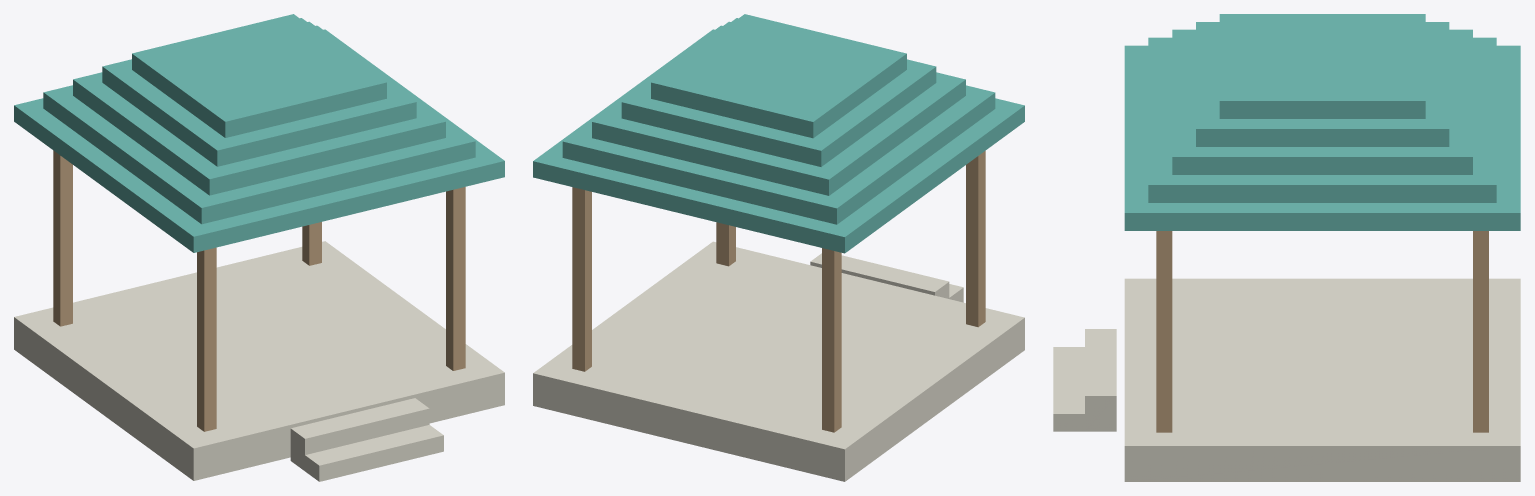
The model's file is voxel-city-districts-bandstand-4d55a966__24870.glb.
The picture shows the model from 3 angles, left to right: view 1: azimuth 30°, elevation 25°; view 2: azimuth 150°, elevation 25°; view 3: azimuth 270°, elevation 25°; orthographic projection. The views are drawn at different scales.
Visible parts, largest first — view 1: bandstand-concrete, bandstand-accent, bandstand-wood; view 2: bandstand-concrete, bandstand-accent, bandstand-wood; view 3: bandstand-accent, bandstand-concrete, bandstand-wood.
Part boxes in pixels (box(x1,y1,x2,y2)): bandstand-concrete: box(14, 241, 504, 481); bandstand-accent: box(14, 14, 504, 252); bandstand-wood: box(53, 150, 465, 431); bandstand-concrete: box(533, 241, 1024, 481); bandstand-accent: box(533, 14, 1024, 253); bandstand-wood: box(572, 151, 985, 432); bandstand-accent: box(1124, 14, 1520, 230); bandstand-concrete: box(1053, 278, 1520, 481); bandstand-wood: box(1156, 231, 1488, 432).
Bounding box in the file's own units: 5 × 4.75 × 5.9.
